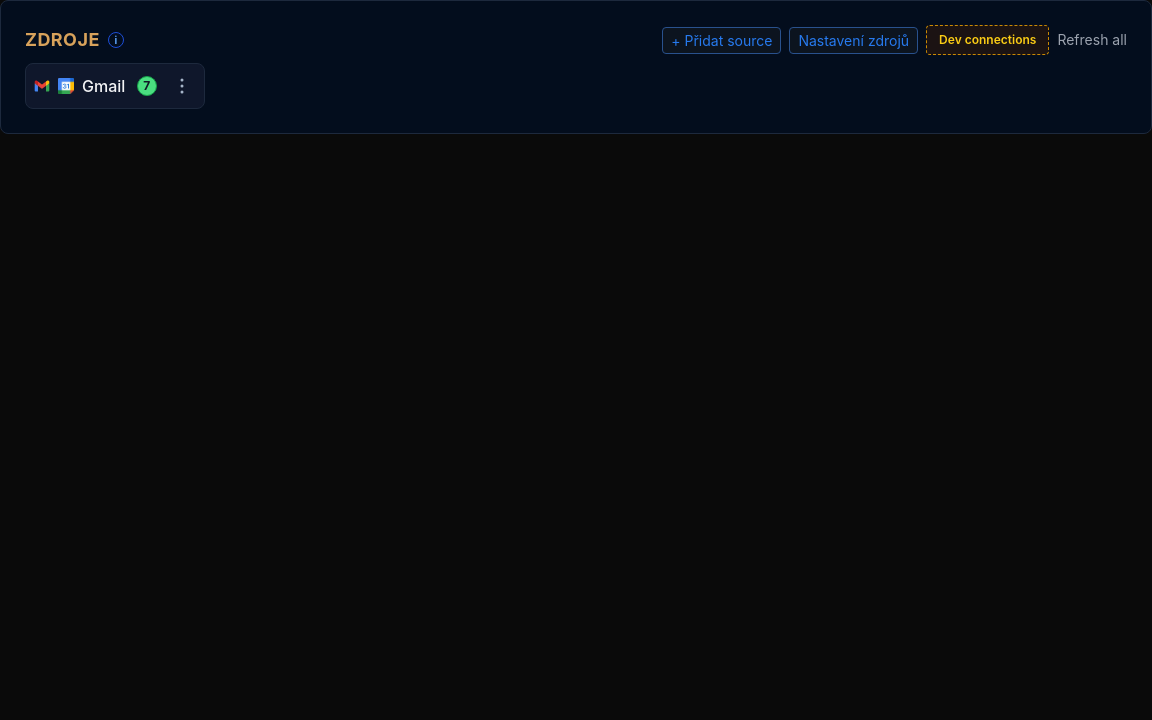
SourcesSection › opens the preview modal when the source card is clicked
expect the text "Gmail" is shown: met, box [82,74,125,98]
Click the button with test id "source-card-gmail" at (115, 86), box [25,63,205,109]
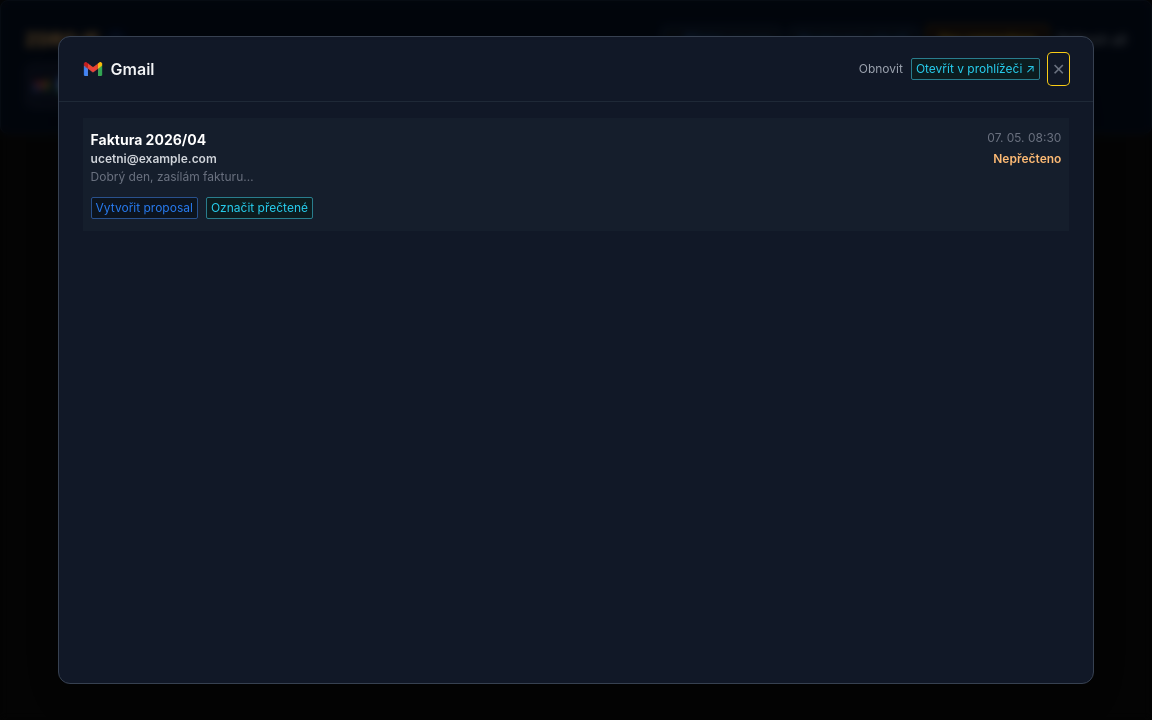
expect the dialog is shown: met
expect the text "Faktura 2026/04" is shown: met, box [91,130,206,149]
